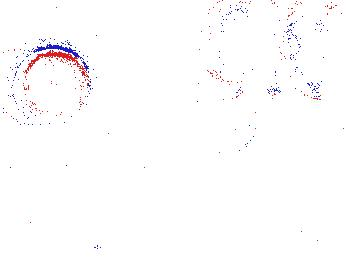moon jellyfish: (161, 81, 258, 157), (197, 1, 283, 84), (278, 3, 346, 100), (12, 47, 91, 125)
